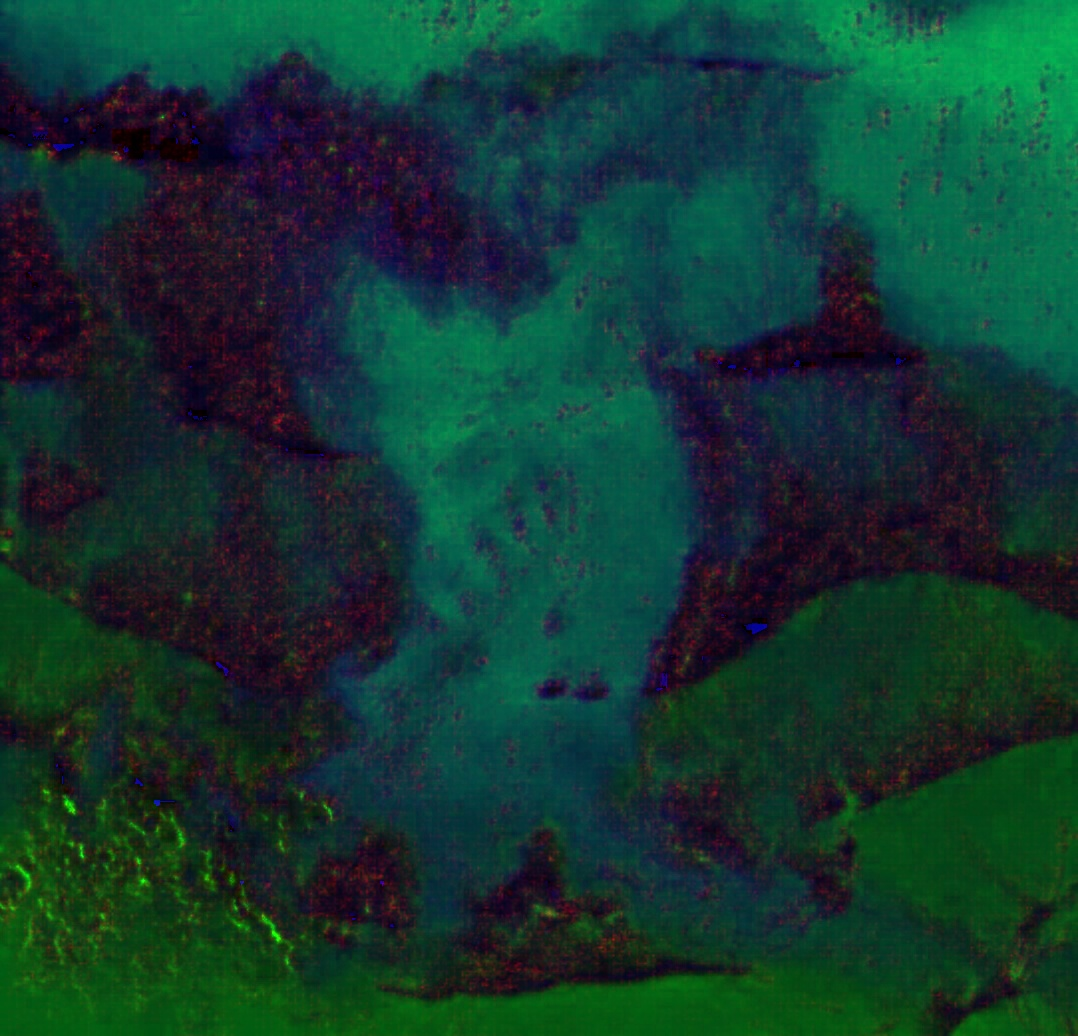rip_current: (266, 146, 780, 851)
